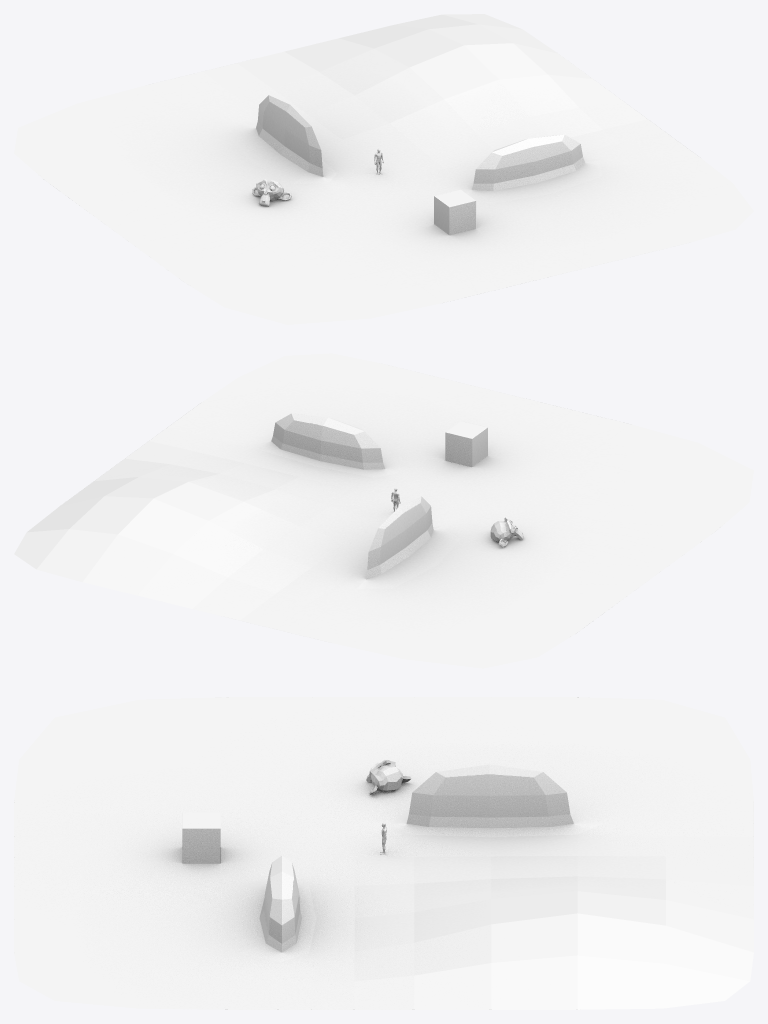
3 renders of one model, top to bottom at view 1: azimuth 30°, elevation 25°; view 2: azimuth 150°, elevation 25°; view 3: azimuth 270°, elevation 25°, orthographic. The views are drawn at different scales.
Visible parts, largest first — view 1: Plane; view 2: Plane; view 3: Plane.
Boxes of the visible parts, x1,y1,x2,y2 form: Plane: (14,14,753,324); Plane: (14,353,753,668); Plane: (14,697,753,1009).
Size of the model in its own units: 38.48 by 3.71 by 38.48.
Materials: 1 (1 with a texture image).
